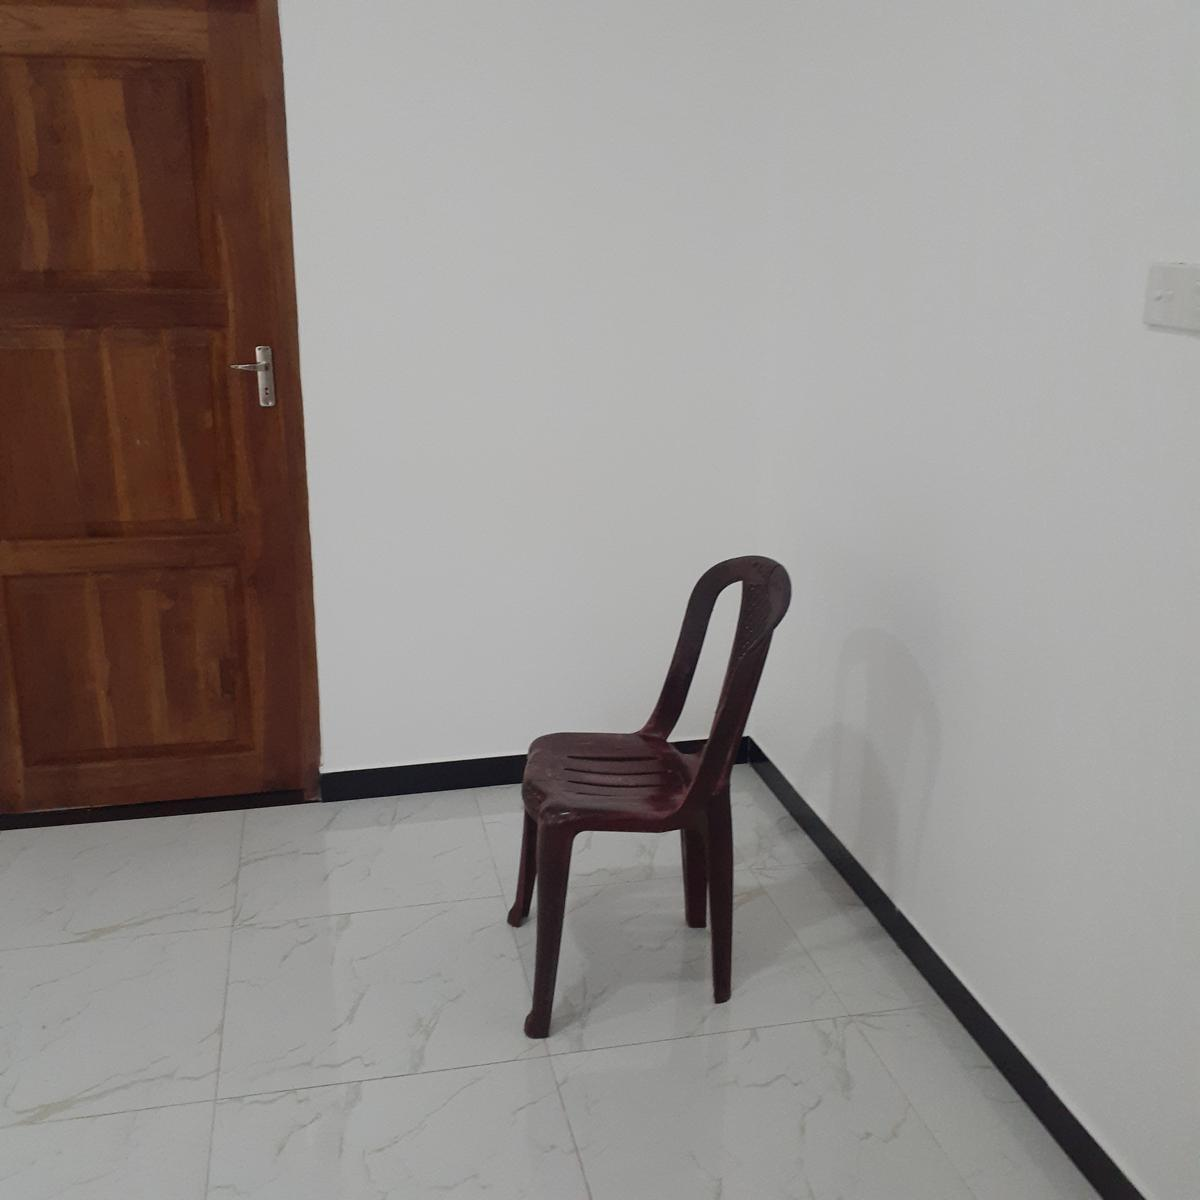Chair: (504, 554, 790, 1038)
